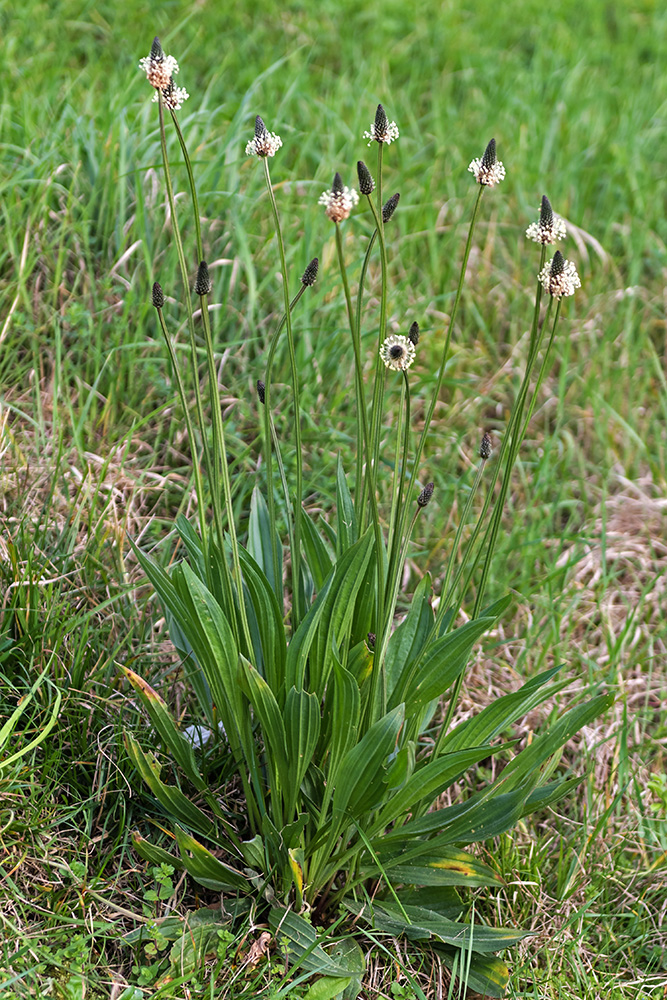buckhorn plantain: (115, 34, 597, 937)
